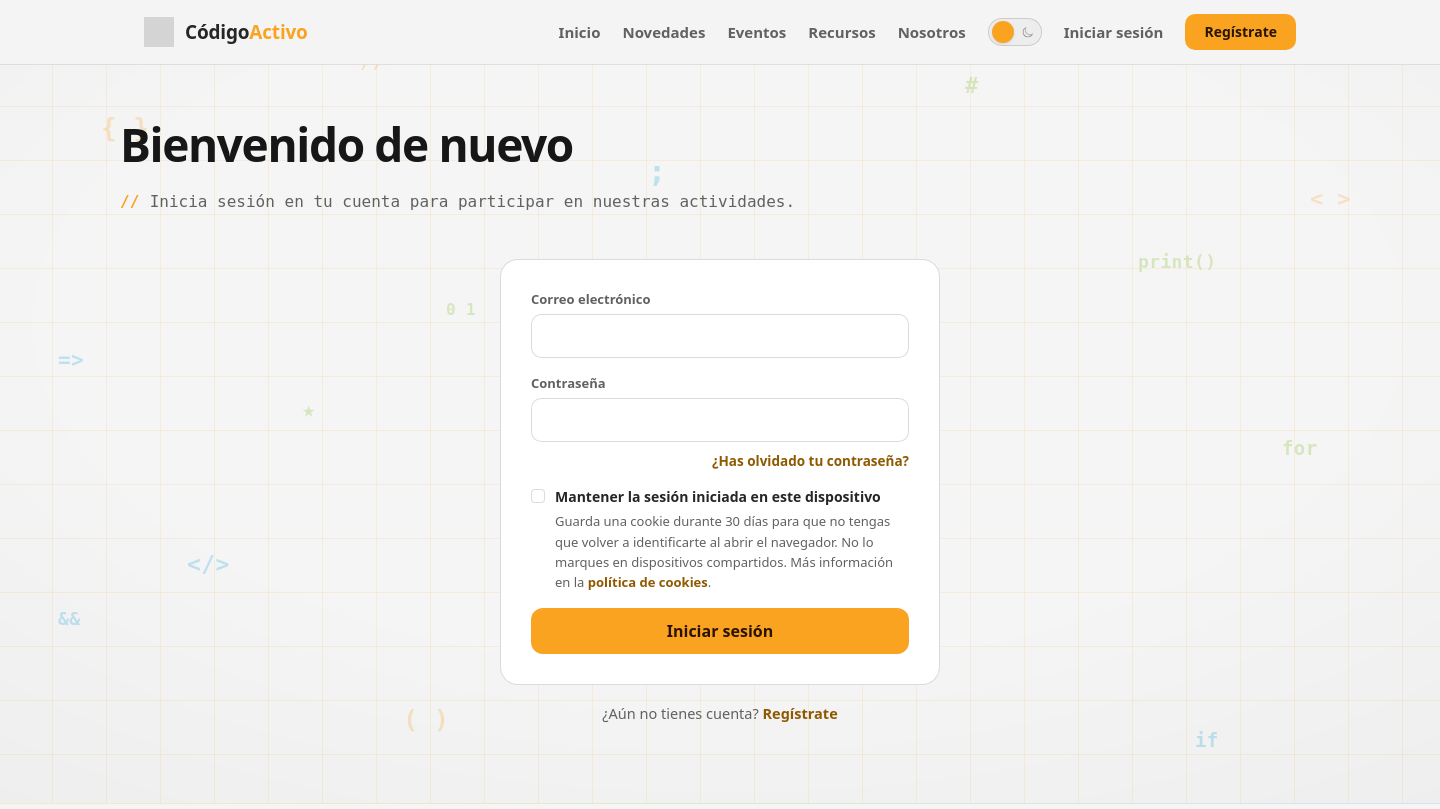
Test: login page › shows an error when the credentials are rejected
The image size is (1440, 809).
Type "nobody" into the field with id "login-identifier" at (720, 336), box [545,315,895,357]
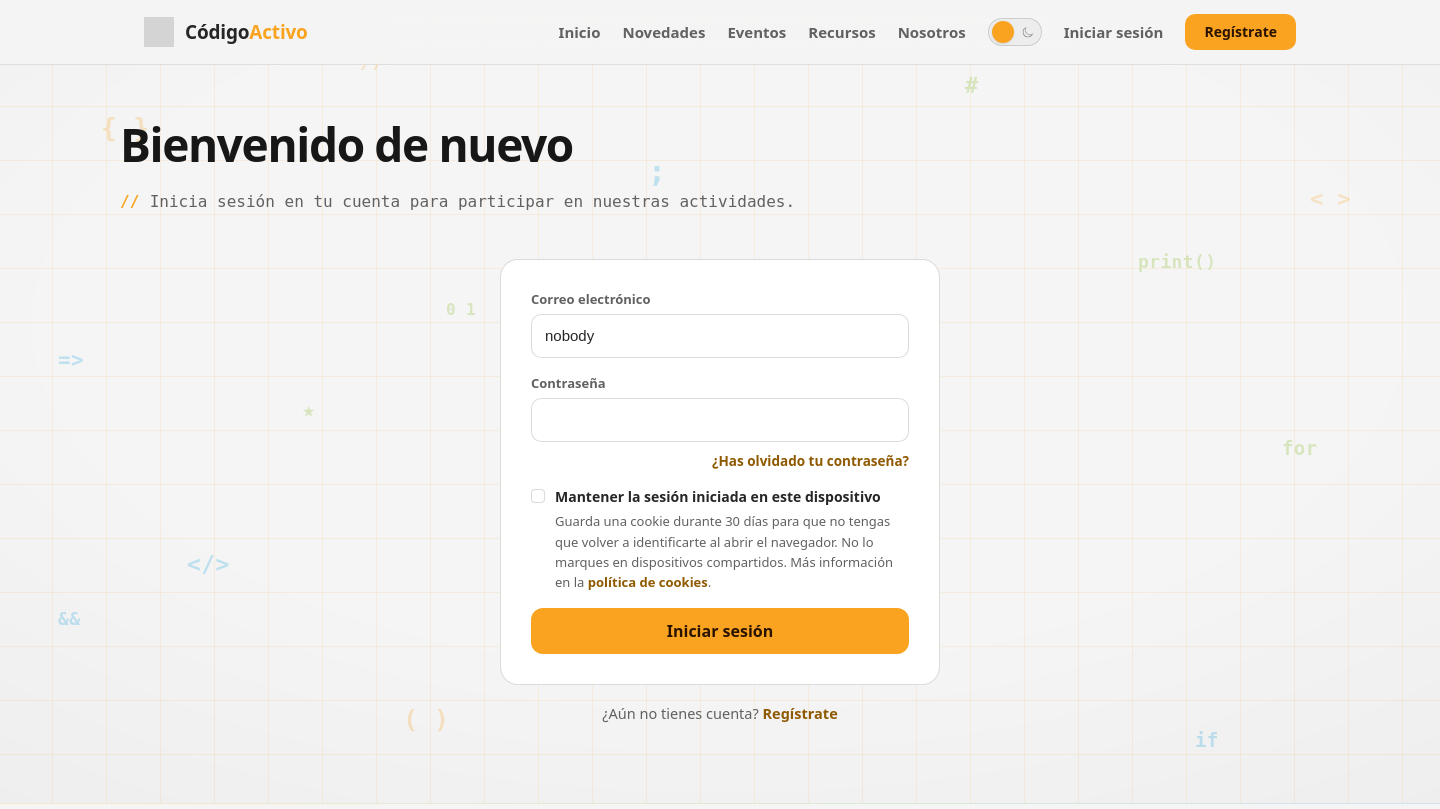
Type "wrong" into the password field with id "login-password" at (720, 420), box [545,399,895,441]
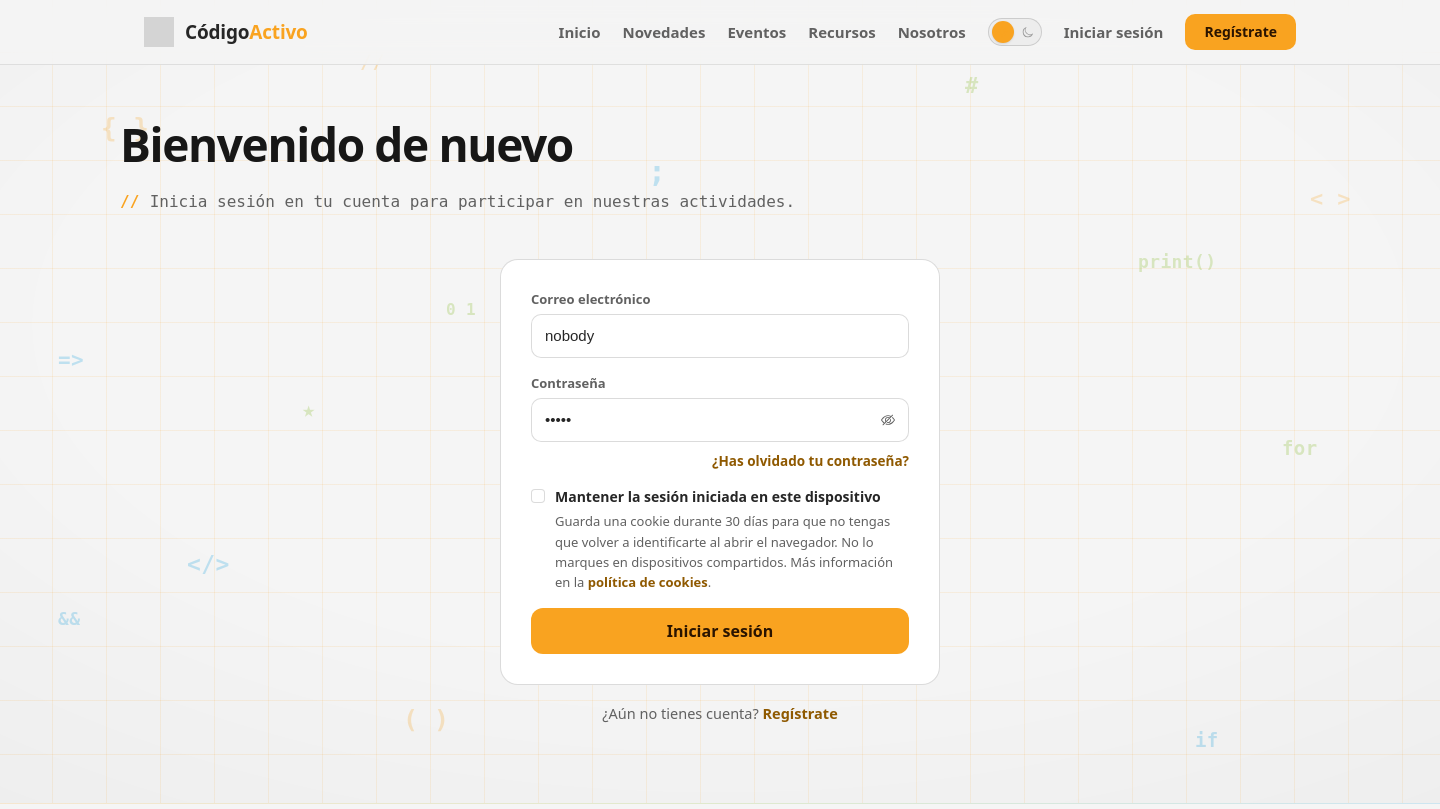
Submit the form, box [500,259,940,685]
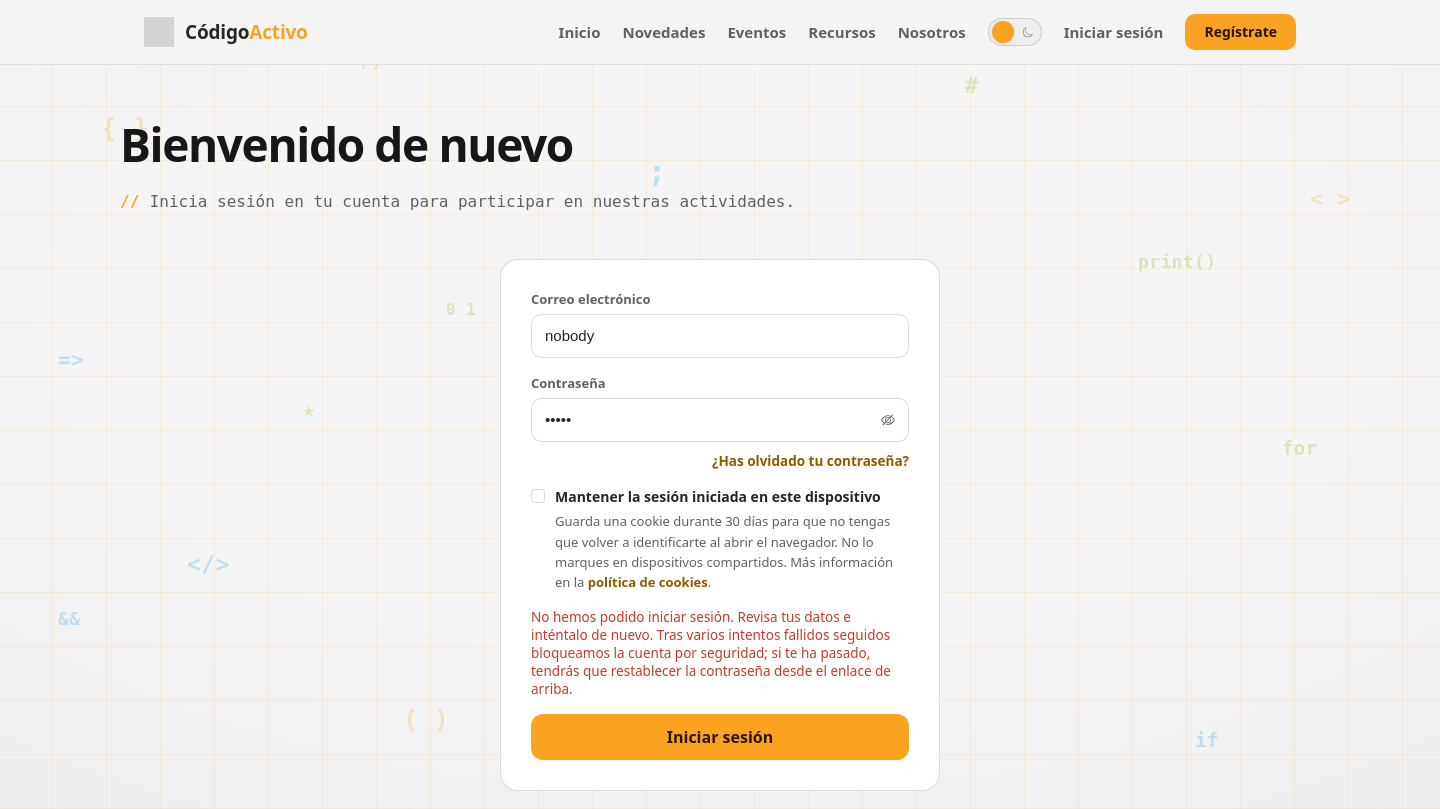
Expected: the message is shown, [531,608,909,698]
Expected: the message shows "No hemos podido iniciar sesión. Revisa tus datos e inténtalo de nuevo. Tras varios intentos fallidos seguidos bloqueamos la cuenta por seguridad; si te ha pasad", [531,608,891,698]
